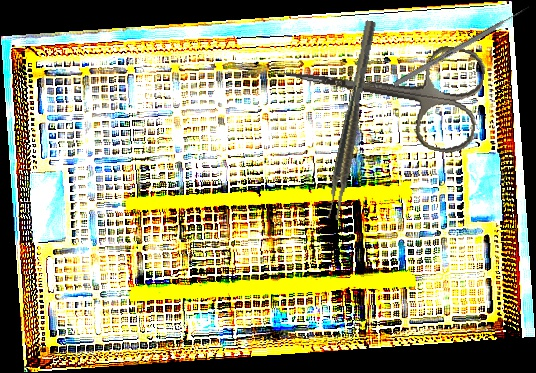Iris Scissors: (274, 19, 489, 157)
Pusher: (392, 4, 532, 88)
Tissue Forceps: (323, 19, 383, 222)
